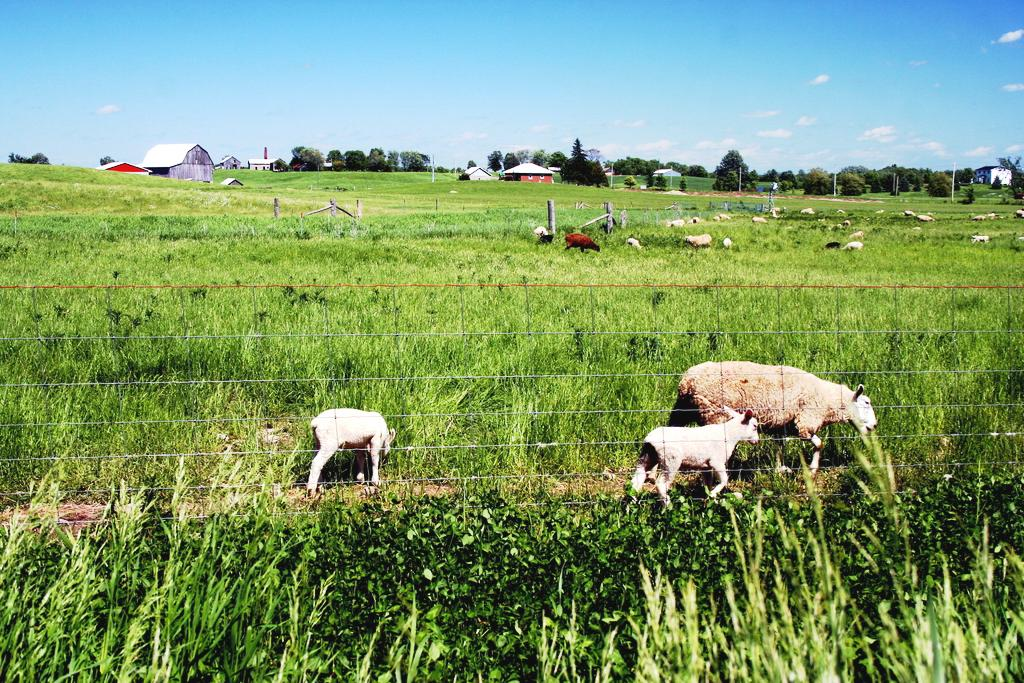Sheep: (666, 362, 874, 477), (628, 404, 758, 503), (302, 402, 408, 501)
